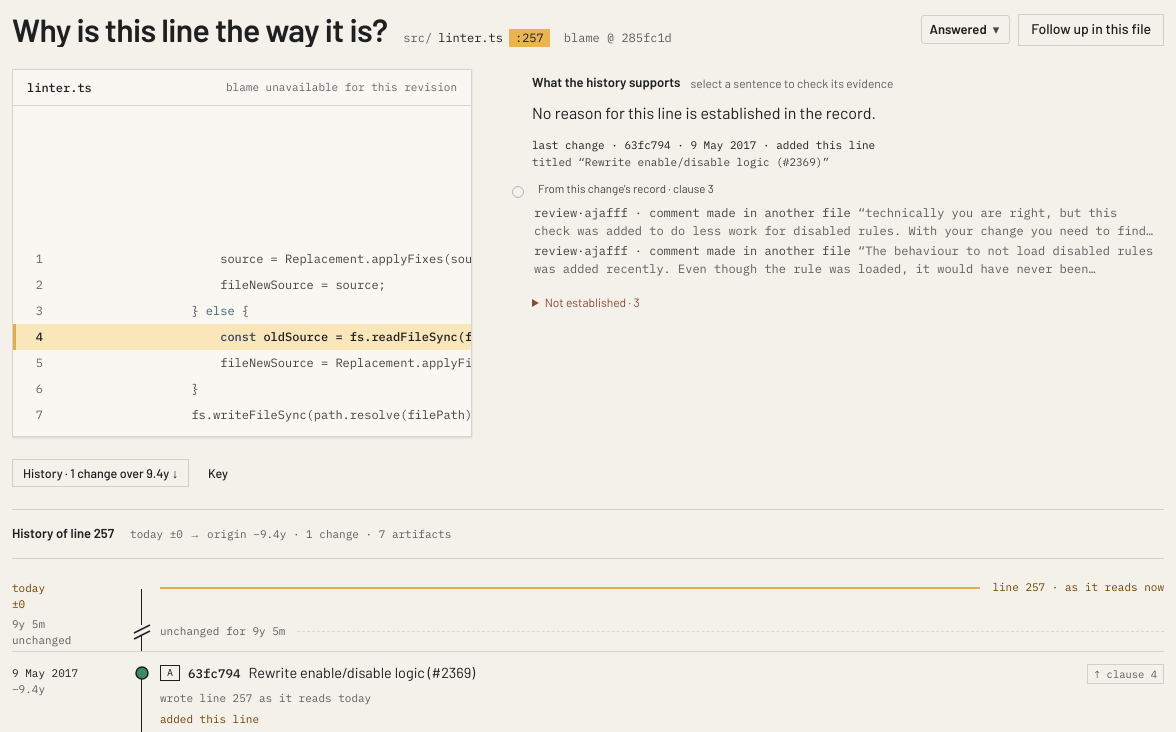
Test: validating the reading before it reaches the case screen › tslint-257: the change's record kept without a sentence carries no note
Click the button "From this change's record · clause 3".
click(626, 188)  # box [504,174,1164,204]
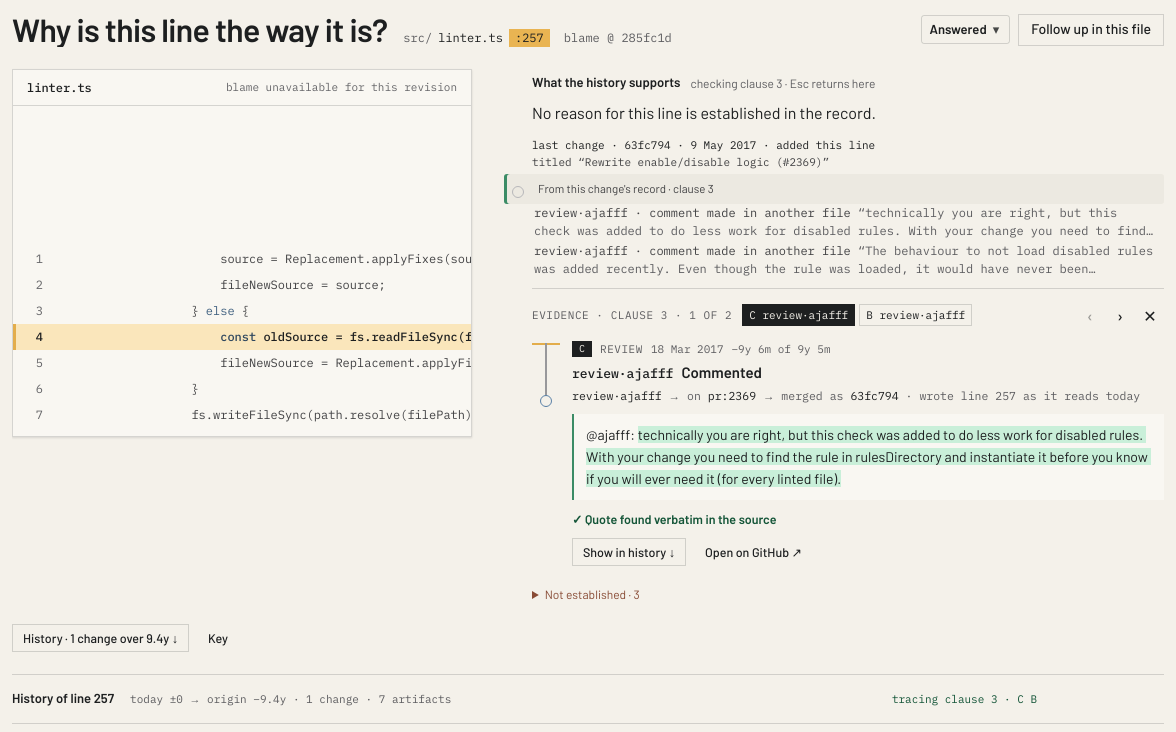
Expected: the element "EVIDENCE · CLAUSE 3" is shown, [532,288,1164,566]
